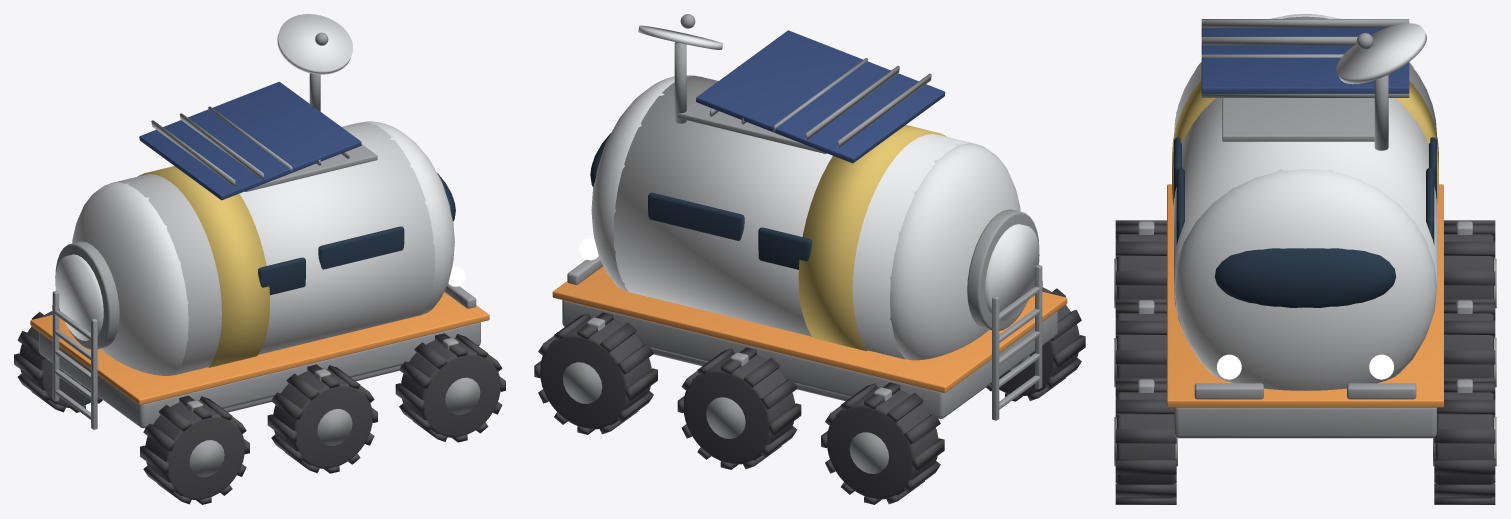
The model's file is lunar_rover.glb.
The picture shows the model from 3 angles, left to right: view 1: azimuth 30°, elevation 25°; view 2: azimuth 150°, elevation 25°; view 3: azimuth 270°, elevation 25°; orthographic projection. The views are drawn at different scales.
Visible parts, largest first — view 1: Cabin, Cabin rear dome, Solar panel, Stripe, Thermal band, Chassis, Wheel 2-1, Wheel 0-1, Wheel 1-1, Cabin front dome, Dish, Hatch door (+12 smaller); view 2: Cabin, Cabin rear dome, Solar panel, Stripe, Thermal band, Chassis, Wheel 01, Wheel 21, Wheel 11, Cabin front dome, Hatch door, Hatch ring (+14 smaller); view 3: Cabin front dome, Cabin, Stripe, Front windshield, Solar panel, Chassis, Radiator, Dish, Wheel 0-1, Wheel 01, Thermal band, Wheel 1-1 (+38 smaller).
Part boxes in pixels (x1,y1,x2,y2): Cabin: [110, 122, 434, 374]; Cabin rear dome: [72, 182, 188, 375]; Solar panel: [139, 81, 361, 200]; Stripe: [30, 292, 489, 405]; Thermal band: [138, 166, 269, 367]; Chassis: [39, 322, 480, 428]; Wheel 2-1: [145, 400, 244, 499]; Wheel 0-1: [401, 337, 500, 437]; Wheel 1-1: [273, 368, 372, 468]; Cabin front dome: [364, 121, 454, 314]; Dish: [277, 14, 352, 74]; Hatch door: [55, 254, 103, 340]; Cabin: [613, 75, 978, 359]; Cabin rear dome: [890, 143, 1020, 360]; Solar panel: [696, 30, 945, 163]; Stripe: [552, 266, 1067, 393]; Thermal band: [798, 125, 946, 351]; Chassis: [562, 300, 1057, 418]; Wheel 01: [540, 317, 651, 429]; Wheel 21: [827, 387, 938, 499]; Wheel 11: [683, 352, 794, 464]; Cabin front dome: [591, 75, 692, 291]; Hatch door: [985, 224, 1039, 321]; Hatch ring: [967, 209, 1039, 330]; Cabin front dome: [1174, 168, 1436, 390]; Cabin: [1174, 16, 1436, 329]; Stripe: [1167, 184, 1443, 407]; Front windshield: [1215, 248, 1395, 307]; Solar panel: [1201, 28, 1409, 93]; Chassis: [1174, 407, 1436, 438]; Radiator: [1222, 98, 1374, 141]; Dish: [1336, 23, 1426, 84]; Wheel 0-1: [1117, 392, 1175, 498]; Wheel 01: [1435, 392, 1493, 498]; Thermal band: [1172, 80, 1438, 204]; Wheel 1-1: [1117, 313, 1166, 378].
Size of the model in its own units: 3.83 by 3.51 by 2.76.
